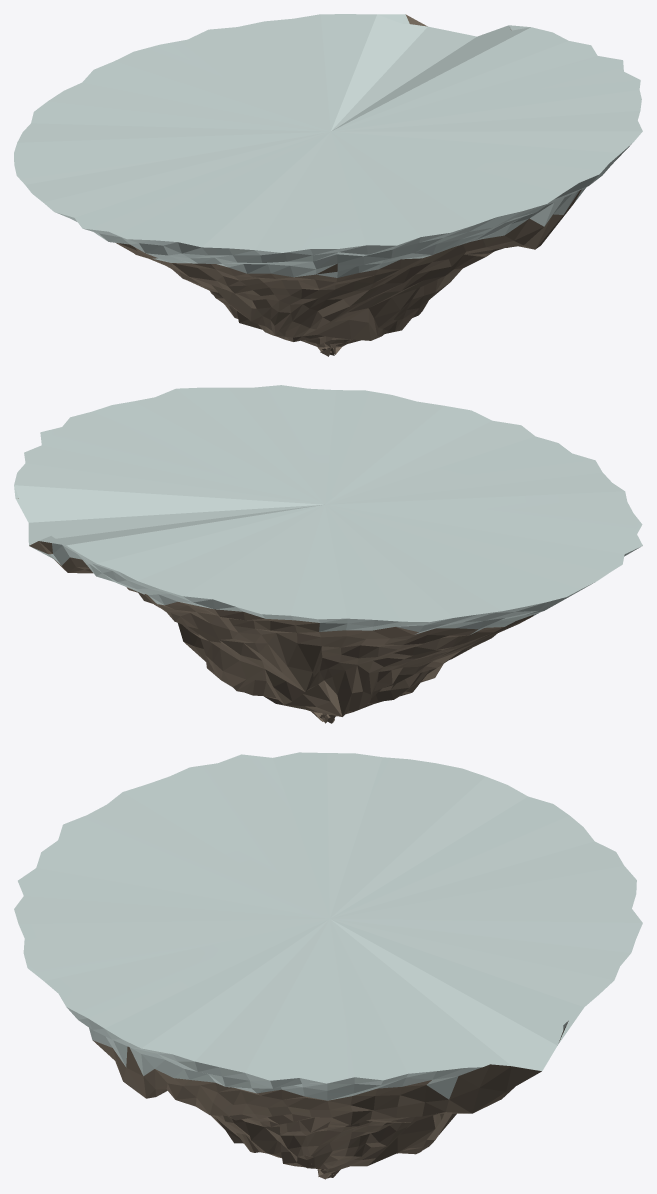
The model's file is snow_island_2.fbx.
3 renders of one model, top to bottom at view 1: azimuth 30°, elevation 25°; view 2: azimuth 150°, elevation 25°; view 3: azimuth 270°, elevation 25°, orthographic. The views are drawn at different scales.
Visible parts, largest first — view 1: Cone_2.002; view 2: Cone_2.002; view 3: Cone_2.002.
Boxes of the visible parts, x1=… form: Cone_2.002: x1=14, y1=14, x2=642, y2=356; Cone_2.002: x1=14, y1=385, x2=642, y2=723; Cone_2.002: x1=14, y1=752, x2=642, y2=1179.
Size of the model in its own units: 6038 by 2220 by 4823.
